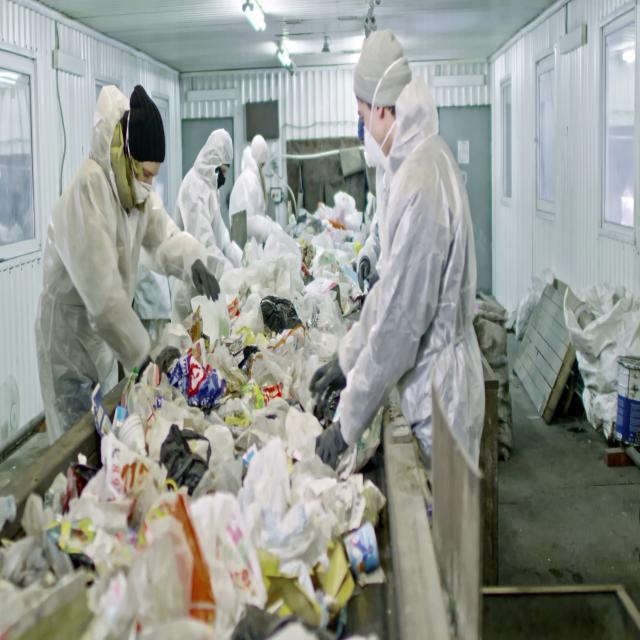gloved: (308, 358, 346, 418), (315, 418, 349, 471), (191, 258, 220, 302), (356, 255, 371, 291)
